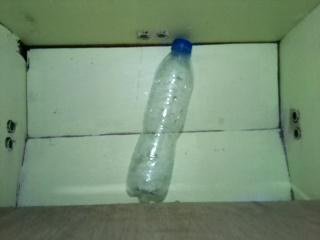bottle: (126, 36, 195, 201)
